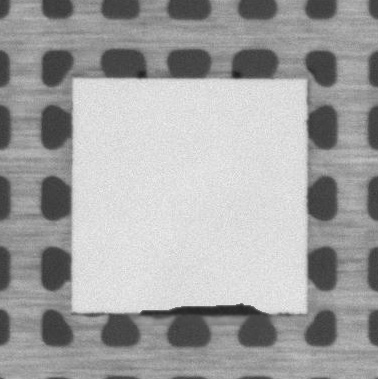DIE_BROKEN: (135, 301, 273, 317)
